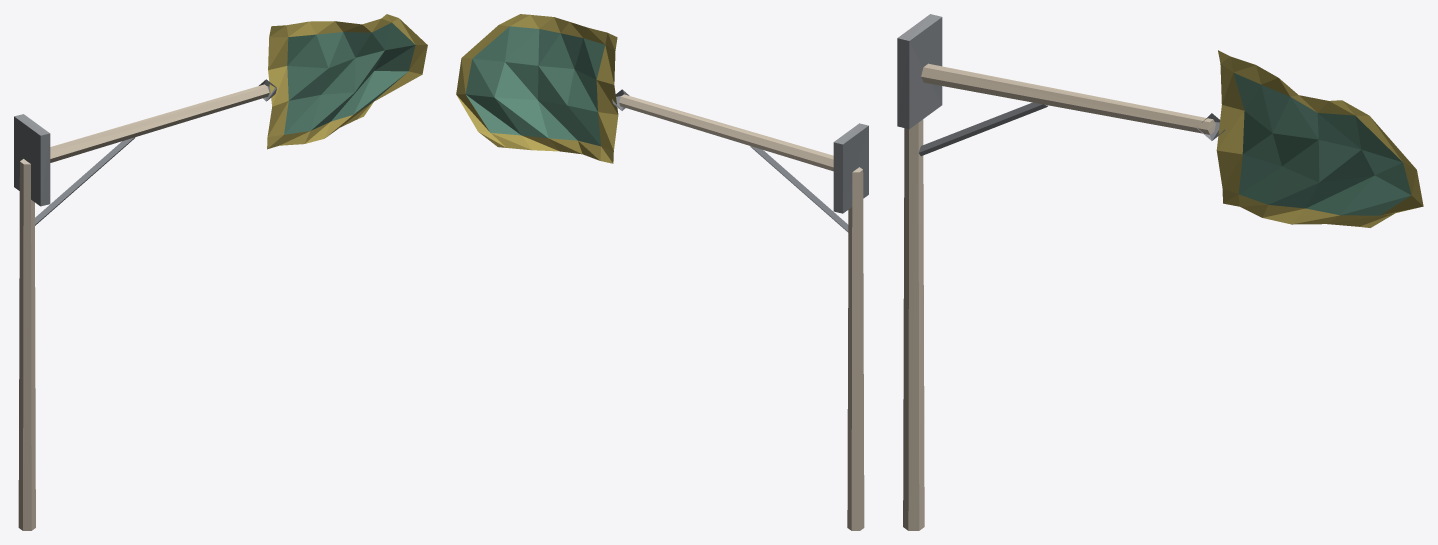
Rendered from flag.roundFly.cuiqi__pole.horizontal.xiecheng__armFly.glb.
3 views of the same model, side by side, from view 1: azimuth 30°, elevation 25°; view 2: azimuth 150°, elevation 25°; view 3: azimuth 330°, elevation 25° (orthographic). The views are drawn at different scales.
Visible parts, largest first — view 1: flag.roundFly.cuiqi; view 2: flag.roundFly.cuiqi; view 3: flag.roundFly.cuiqi.
Part boxes in pixels (<box>): flag.roundFly.cuiqi: <box>14,14,427,530</box>; flag.roundFly.cuiqi: <box>456,14,868,530</box>; flag.roundFly.cuiqi: <box>897,14,1423,530</box>.
Size of the model in its own units: 3.38 by 3.5 by 0.4479.
